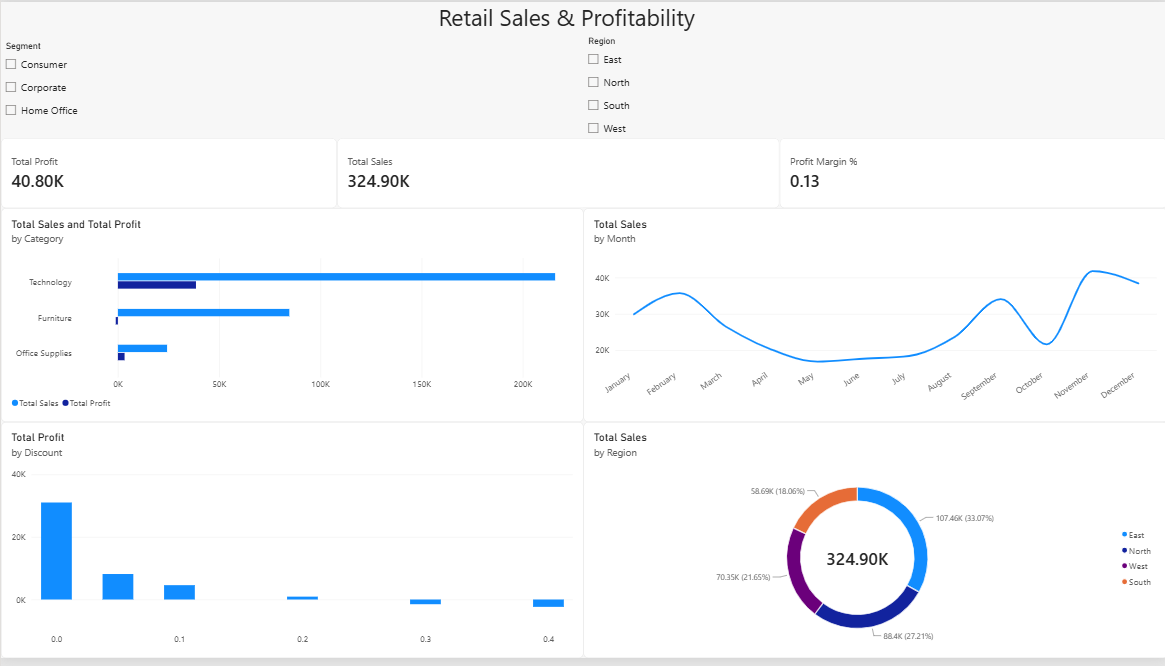

This screenshot's page, from the dashboard's own definition file:
{"tool":"powerbi","page":{"name":"Page 1","canvas":[1920,1080],"ordinal":0},"visuals":[{"type":"cardVisual","fields":{"Data":["Retail_Sales_Cleaned.Total Sales"]},"box":[553.7,224.4,728.6,115.3],"z":0},{"type":"cardVisual","fields":{"Data":["Retail_Sales_Cleaned.Total Profit"]},"box":[0,224.4,553.7,115.3],"z":1000},{"type":"cardVisual","fields":{"Data":["Retail_Sales_Cleaned.Profit Margin %"]},"box":[1282.3,224.4,638.1,115.3],"z":2000},{"type":"lineChart","fields":{"Category":["Retail_Sales_Cleaned.Order_Date.Variation.Date Hierarchy.Month"],"Y":["Retail_Sales_Cleaned.Total Sales"]},"box":[959.2,339.6,961.2,352],"z":3000},{"type":"clusteredBarChart","fields":{"Category":["Retail_Sales_Cleaned.Category"],"Y":["Retail_Sales_Cleaned.Total Sales","Retail_Sales_Cleaned.Total Profit"]},"box":[0,339.6,959.2,352],"z":4000},{"type":"donutChart","fields":{"Category":["Retail_Sales_Cleaned.Region"],"Y":["Retail_Sales_Cleaned.Total Sales"]},"box":[959.2,691.6,961.2,389],"z":4001},{"type":"columnChart","fields":{"Category":["Retail_Sales_Cleaned.Discount"],"Y":["Retail_Sales_Cleaned.Total Profit"]},"box":[0,691.6,959.2,389],"z":4004},{"type":"slicer","fields":{"Values":["Retail_Sales_Cleaned.Segment"]},"box":[0,63.8,895.4,164.7],"z":4005},{"type":"slicer","fields":{"Values":["Retail_Sales_Cleaned.Region"]},"box":[959.2,55.6,942.7,172.9],"z":4006},{"type":"textbox","box":[710.1,0,459,55.6],"z":4007}]}

Visuals, with their boxes in screenshot pixels (x1, y1, x2, y2), scaled from the page's 1920x1080 canvas onto the 1165x666 screenshot:
cardVisual - Retail_Sales_Cleaned.Total Sales: 336/138/778/209
cardVisual - Retail_Sales_Cleaned.Total Profit: 0/138/336/209
cardVisual - Retail_Sales_Cleaned.Profit Margin %: 778/138/1164/209
lineChart - Retail_Sales_Cleaned.Order_Date.Variation.Date Hierarchy.Month x Retail_Sales_Cleaned.Total Sales: 582/209/1164/426
clusteredBarChart - Retail_Sales_Cleaned.Category x Retail_Sales_Cleaned.Total Sales: 0/209/582/426
donutChart - Retail_Sales_Cleaned.Region x Retail_Sales_Cleaned.Total Sales: 582/426/1164/665
columnChart - Retail_Sales_Cleaned.Discount x Retail_Sales_Cleaned.Total Profit: 0/426/582/665
slicer - Retail_Sales_Cleaned.Segment: 0/39/543/141
slicer - Retail_Sales_Cleaned.Region: 582/34/1154/141
textbox: 431/0/709/34
